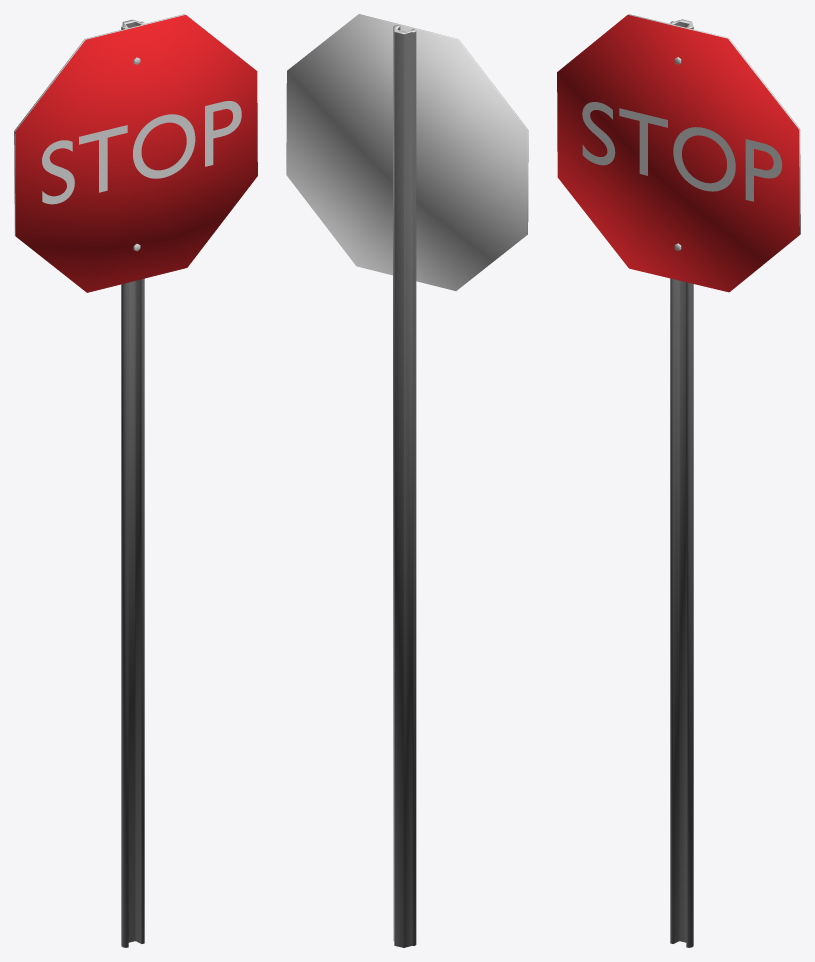
File: Stop-Signal.fbx
The picture shows the model from 3 angles, left to right: view 1: azimuth 30°, elevation 25°; view 2: azimuth 150°, elevation 25°; view 3: azimuth 330°, elevation 25°; orthographic projection.
Visible parts, largest first — view 1: Stop-Pole; view 2: Stop-Pole; view 3: Stop-Pole.
Boxes of the visible parts, box(x1,y1,x2,y2) form: Stop-Pole: box(14, 14, 257, 947); Stop-Pole: box(286, 14, 528, 947); Stop-Pole: box(557, 14, 800, 947).
Bounding box in the file's own units: 5.78 × 0.4123 × 20.92.
